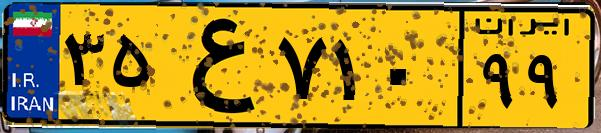0: (385, 28, 445, 110)
1: (330, 28, 385, 110)
3: (57, 26, 110, 100)
5: (110, 28, 158, 98)
7: (270, 28, 330, 110)
9: (475, 38, 525, 113), (525, 38, 570, 115)
ع: (158, 12, 270, 120)
